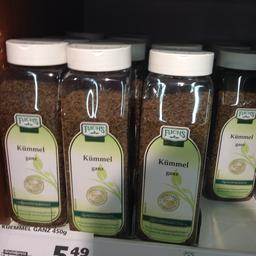spices: (132, 46, 212, 244), (60, 40, 134, 238), (0, 36, 65, 226), (206, 47, 252, 202)
